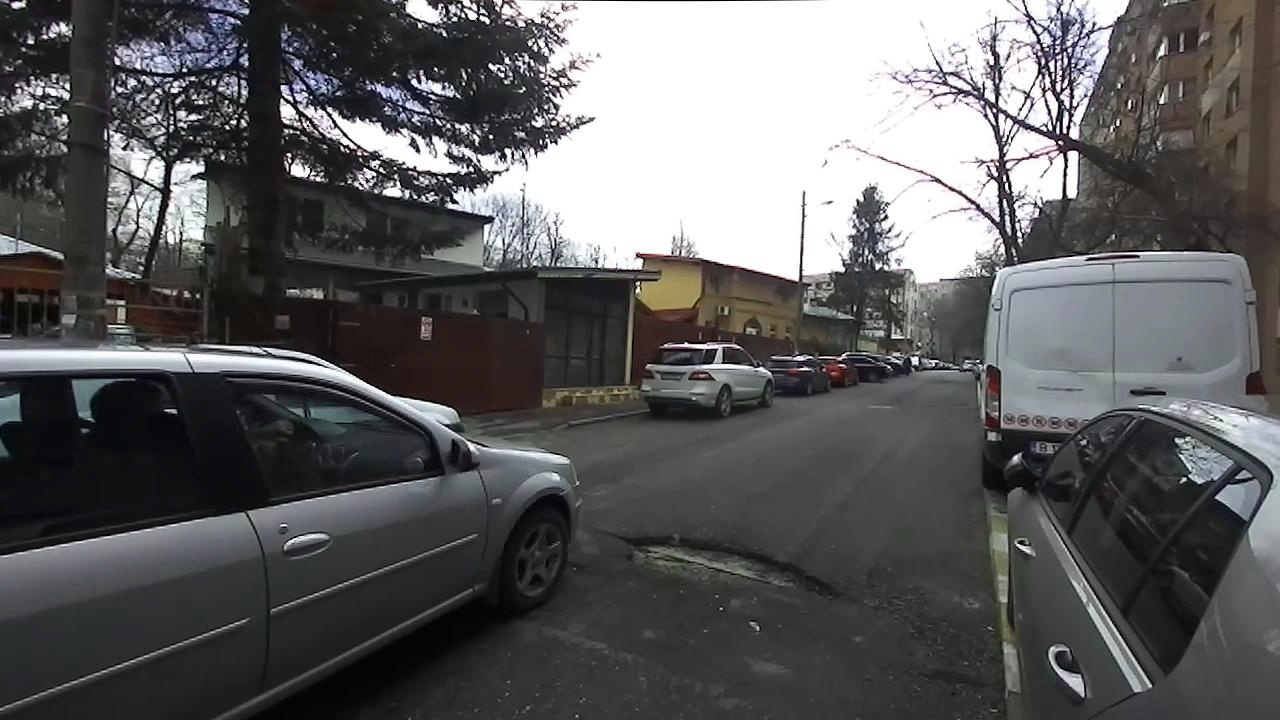pothole: (606, 527, 858, 610)
